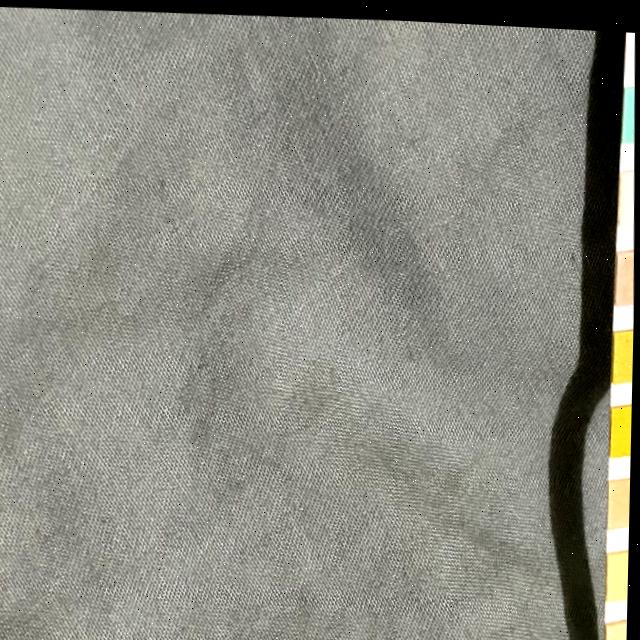Bilirubin: (622, 166, 636, 213)
Blood: (614, 403, 633, 442)
Glucose: (626, 82, 636, 130)
Ketone: (619, 247, 635, 292)
Protein: (611, 549, 631, 587)
SpGravity: (617, 326, 635, 369)
Urobilinogen: (611, 617, 630, 640)
pH: (612, 476, 632, 513)
